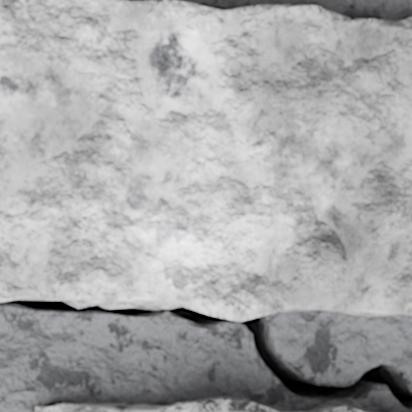brick: (0, 0, 411, 320), (35, 397, 293, 411), (302, 400, 370, 411)
crack: (0, 298, 411, 411)
